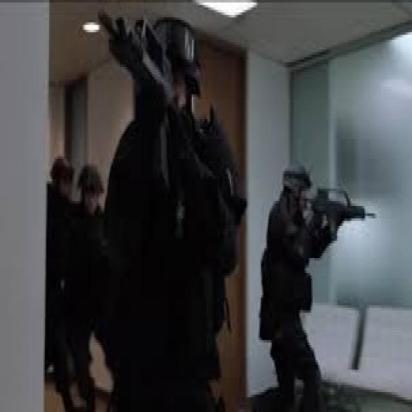Gun: (100, 8, 210, 197), (286, 183, 378, 244)
